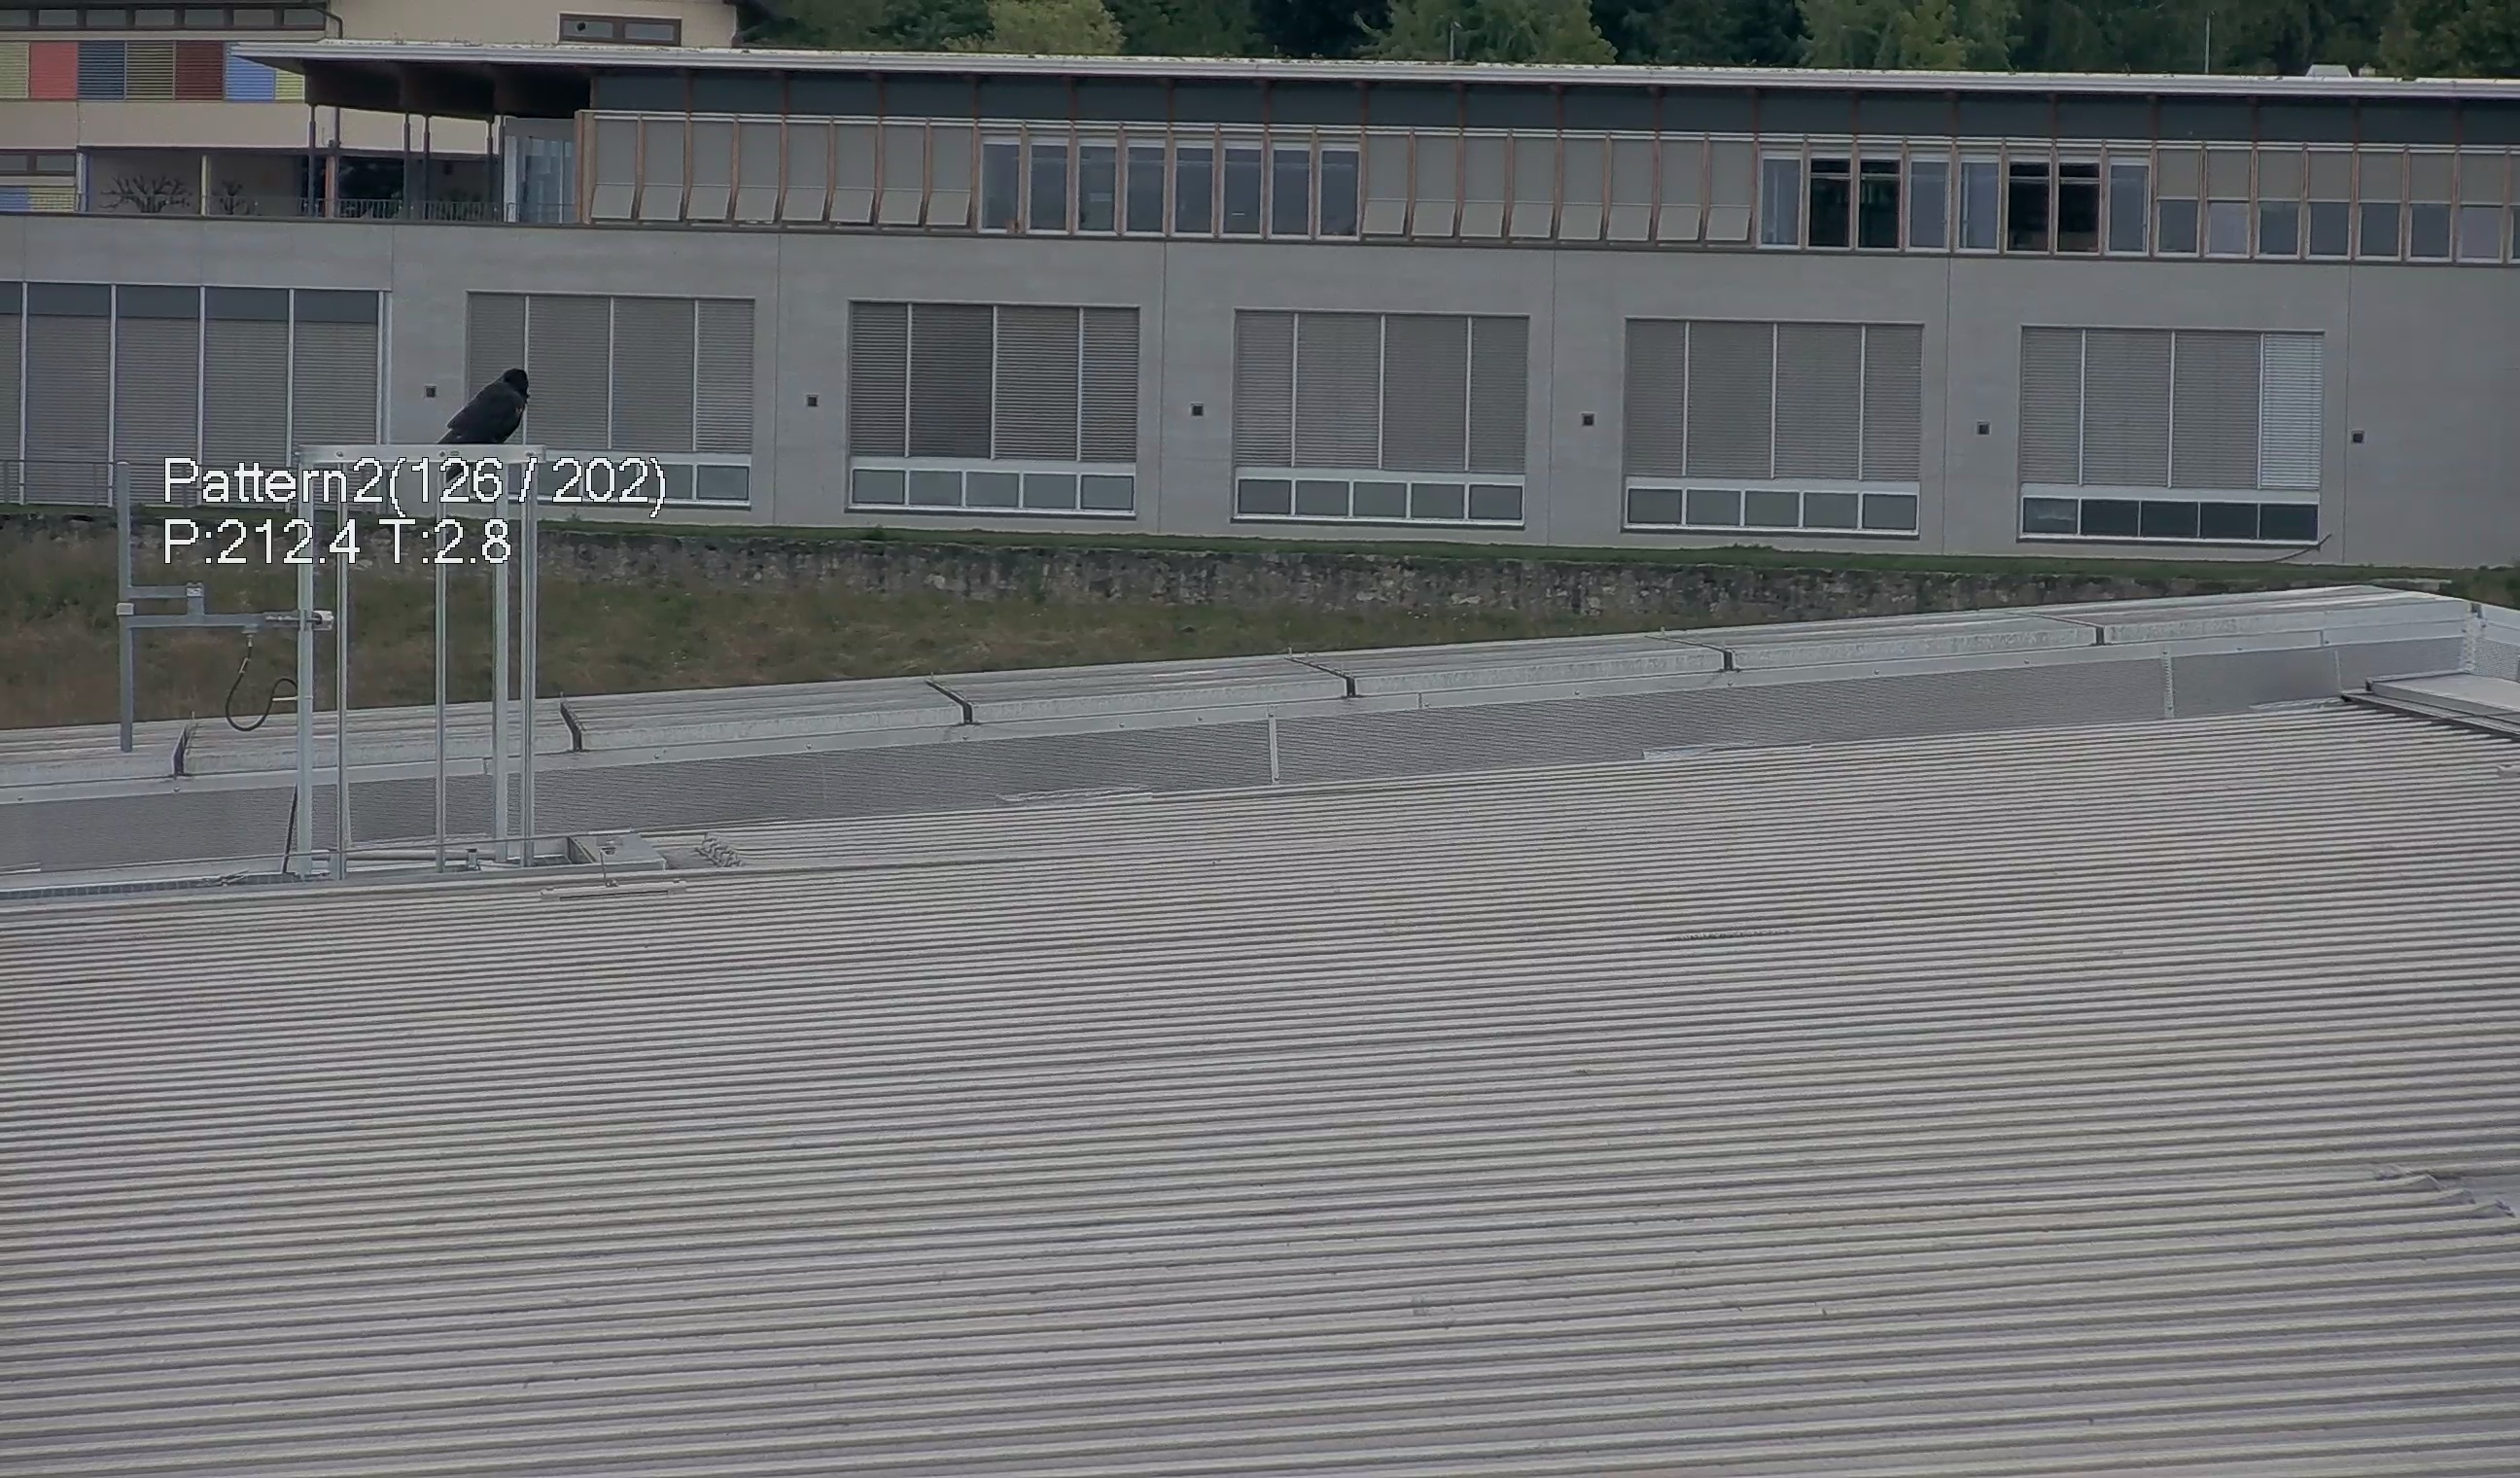Pigeon: (406, 354, 529, 450)
